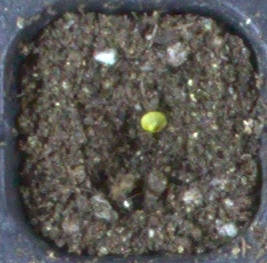chilli seed: (140, 111, 168, 132)
